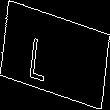L_N: (43, 27, 67, 83)
